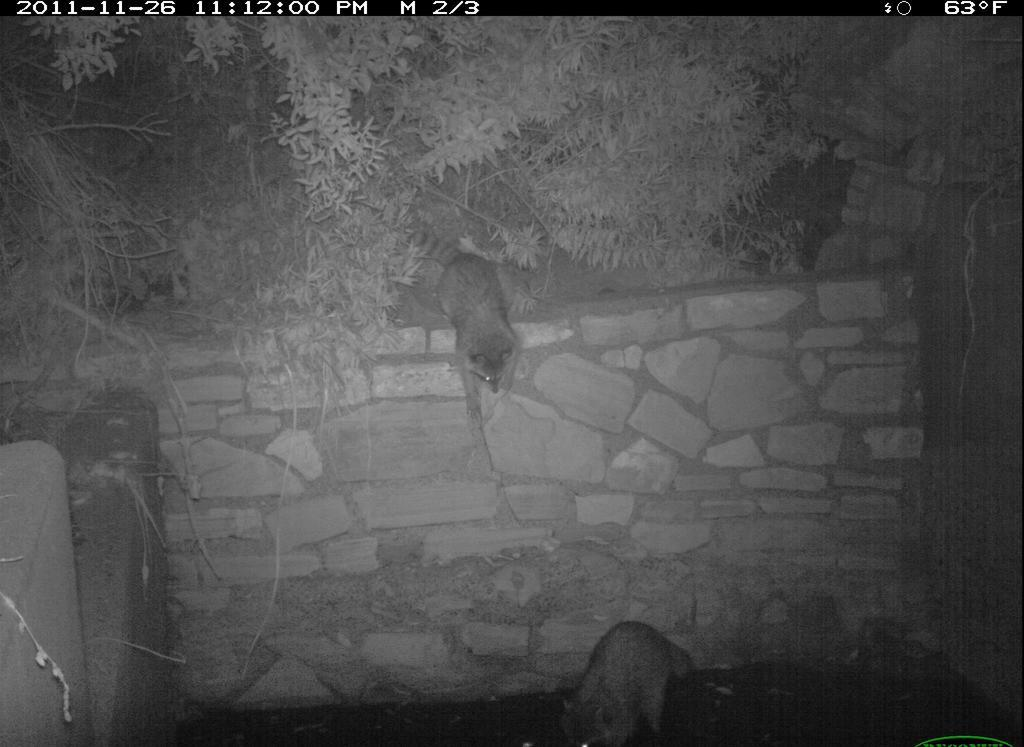raccoon: (400, 221, 532, 443), (548, 614, 703, 747)
